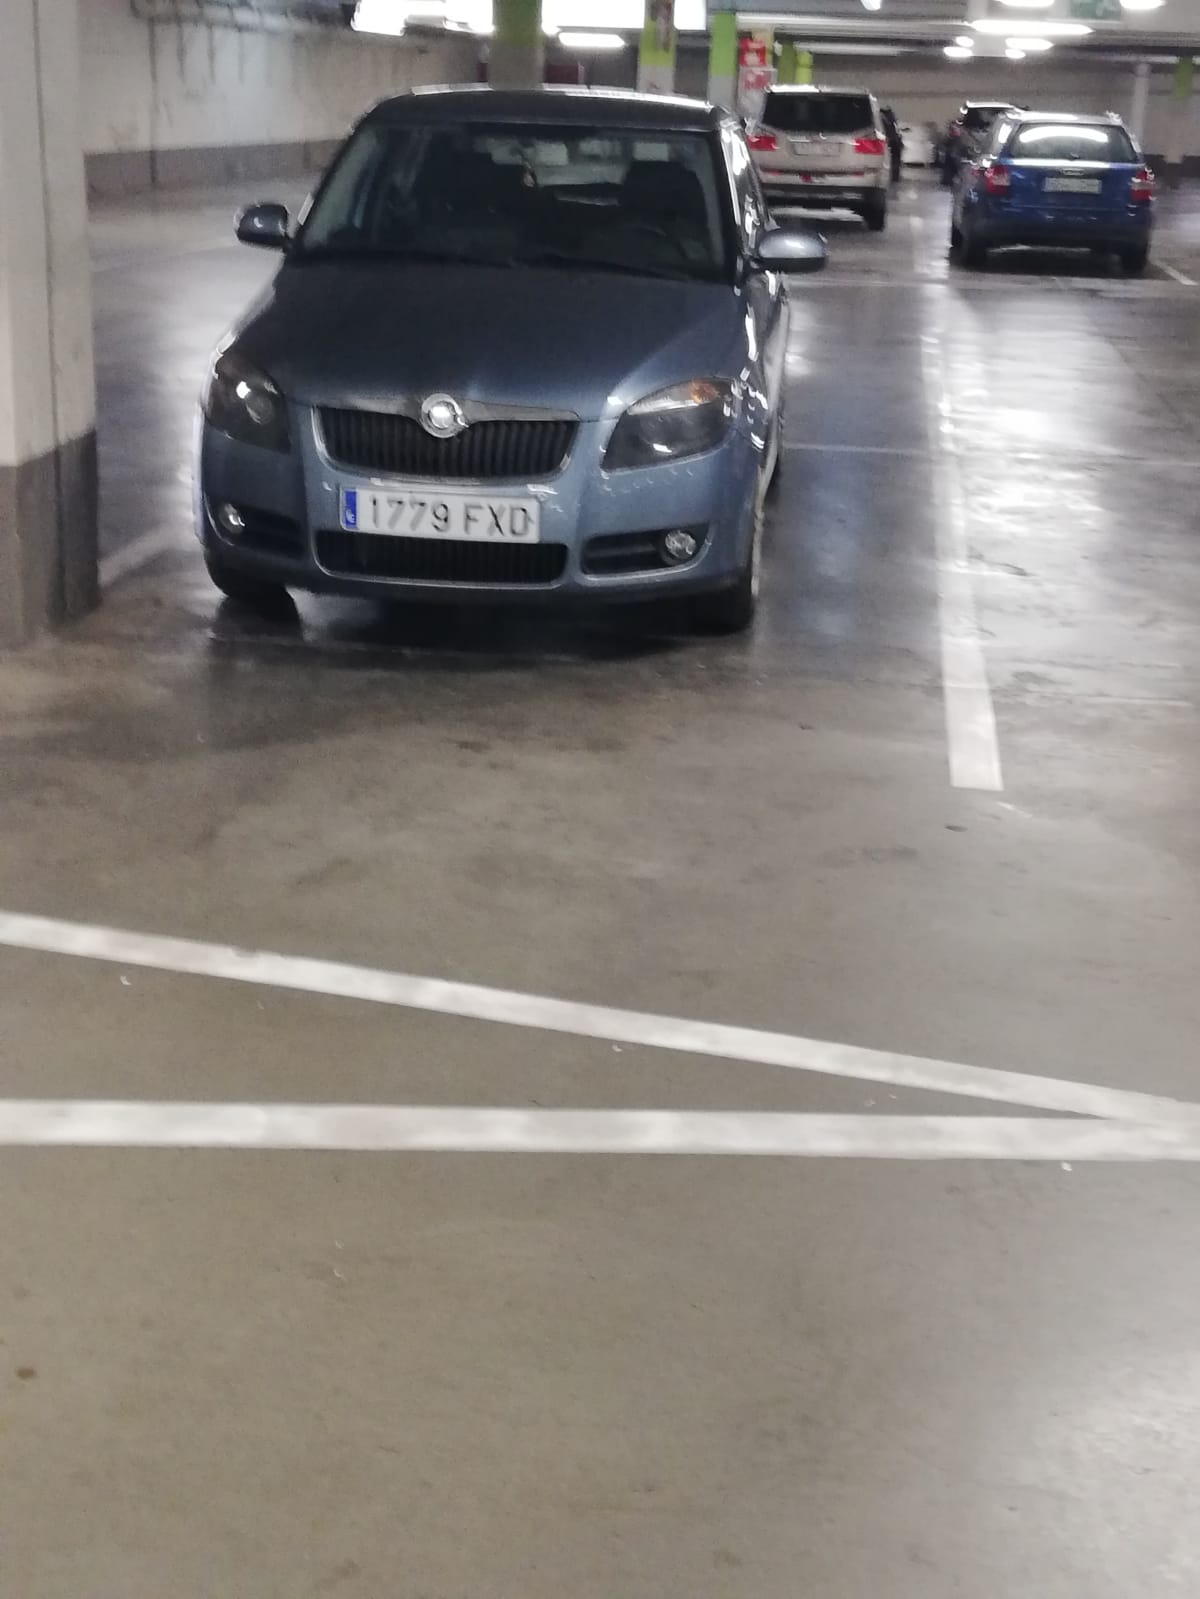Car: (195, 84, 785, 634)
Plate: (337, 485, 538, 533)
